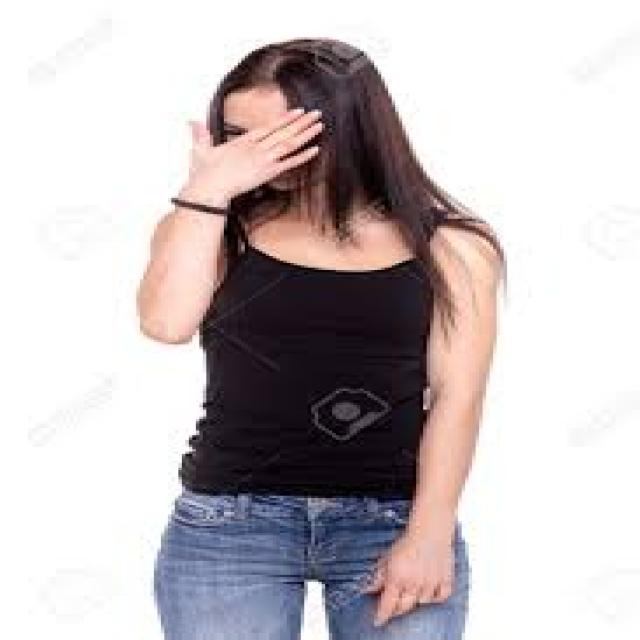7_mano_rostro: (202, 109, 320, 215)
